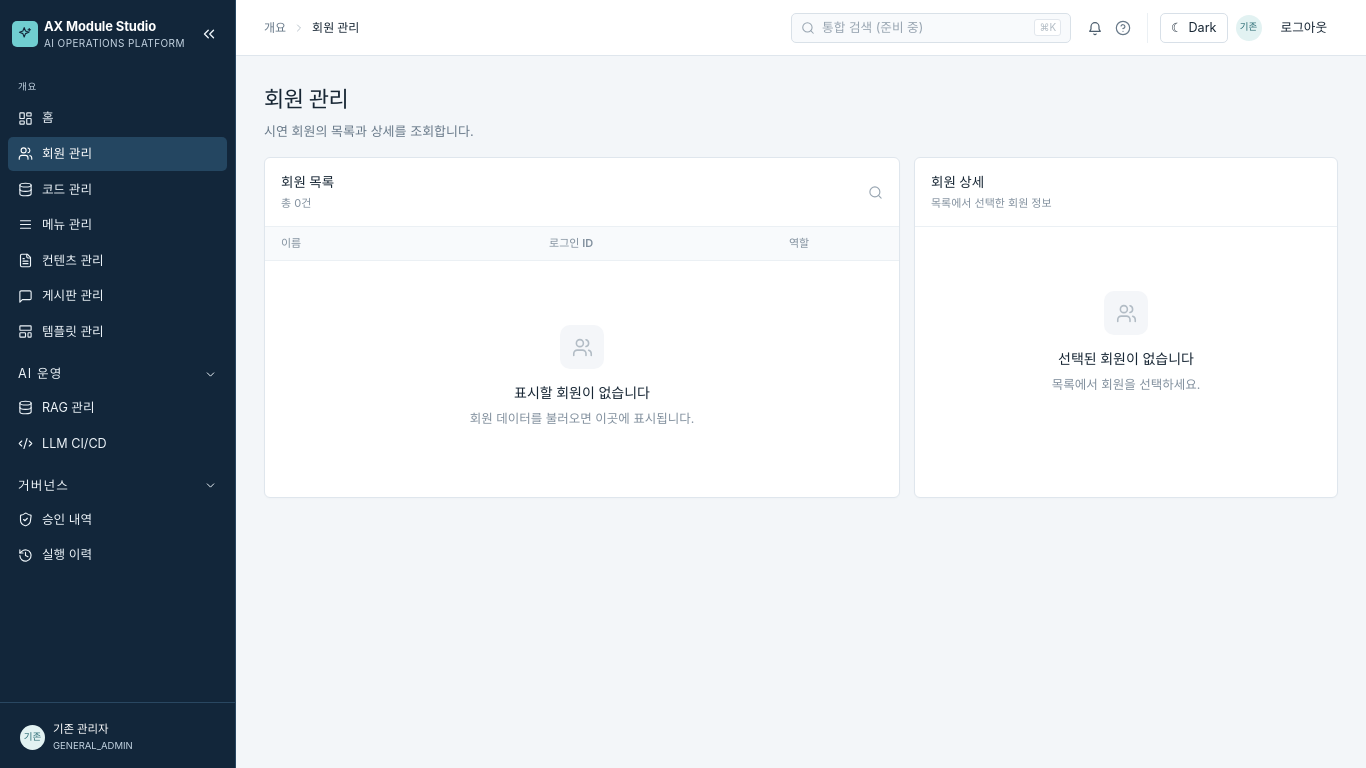
Test case: a refresh response from the signed-out session cannot sign the operator back in
The image size is (1366, 768).
Expected: the heading "회원 관리" is shown, [264,86,348,112]
Click the button "로그아웃".
click(1304, 28)  # box [1270,12,1338,42]
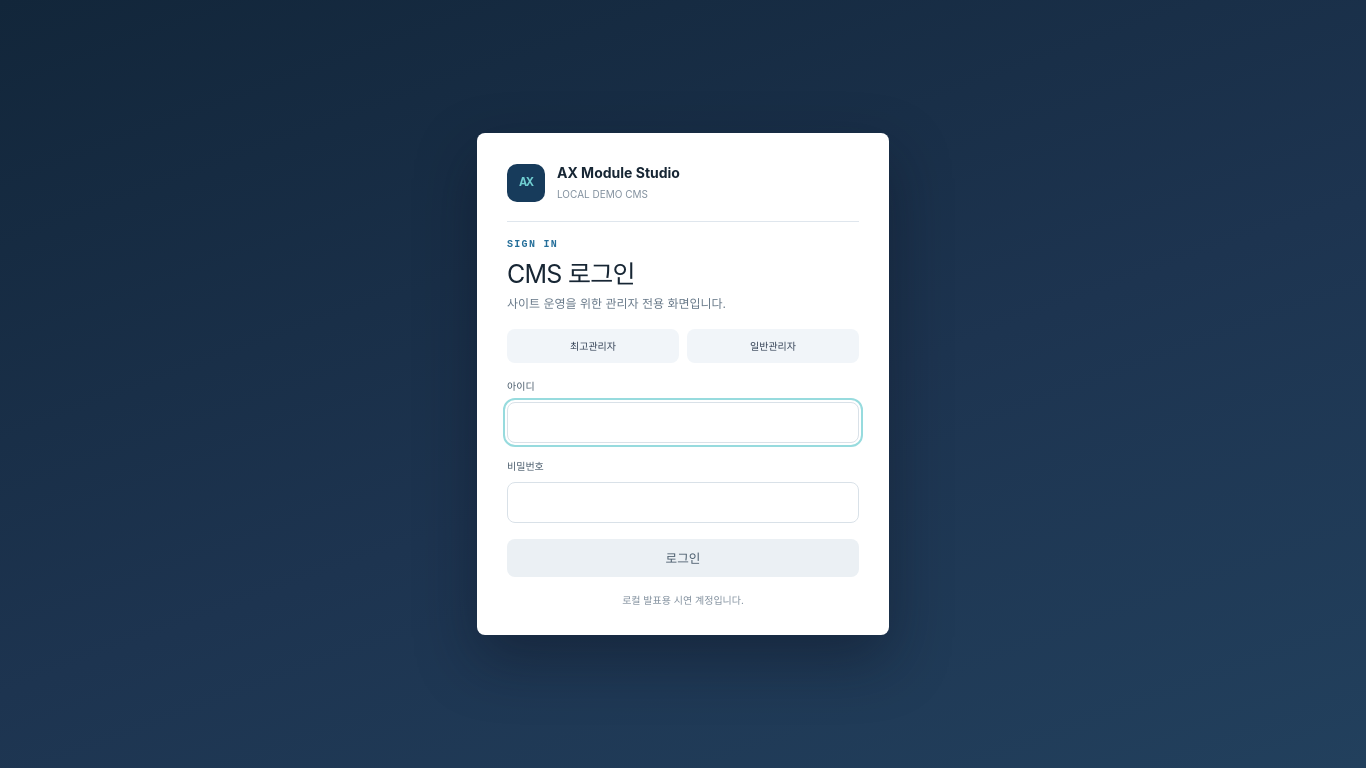
Result: the heading "CMS 로그인" is shown at [507,258,635,288]
